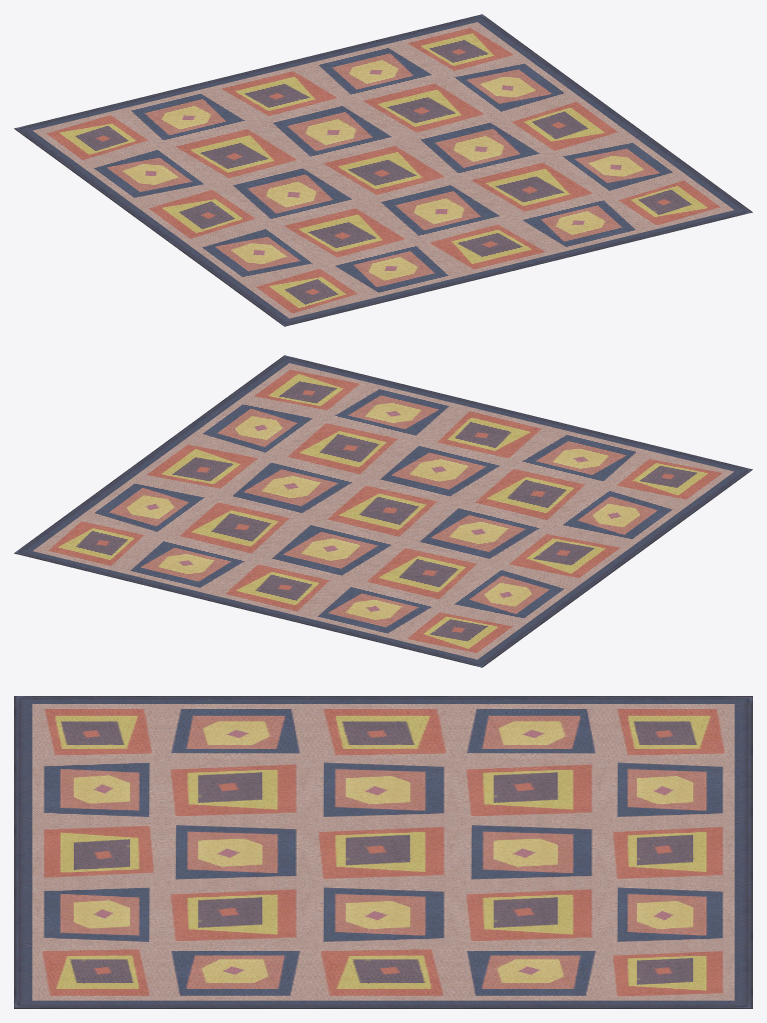
The picture shows the model from 3 angles, top to bottom: view 1: azimuth 30°, elevation 25°; view 2: azimuth 150°, elevation 25°; view 3: azimuth 270°, elevation 25°; orthographic projection. The views are drawn at different scales.
Parts seen in each view (by area): view 1: Joint_0_Object_0; view 2: Joint_0_Object_0; view 3: Joint_0_Object_0.
Boxes of the visible parts, x1,y1,x2,y2 form: Joint_0_Object_0: (14, 14, 752, 326); Joint_0_Object_0: (14, 355, 752, 667); Joint_0_Object_0: (14, 696, 752, 1008).
Bounding box in the file's own units: 4000 × 2.22 × 4000.
Materials: 1 (1 with a texture image).
